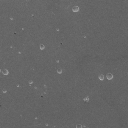corrosion: (105, 72, 114, 82), (1, 68, 10, 77), (71, 5, 80, 13), (38, 43, 46, 52), (98, 73, 106, 81), (82, 95, 90, 103), (56, 67, 63, 74), (2, 88, 8, 95), (28, 79, 34, 85), (56, 28, 60, 32)
